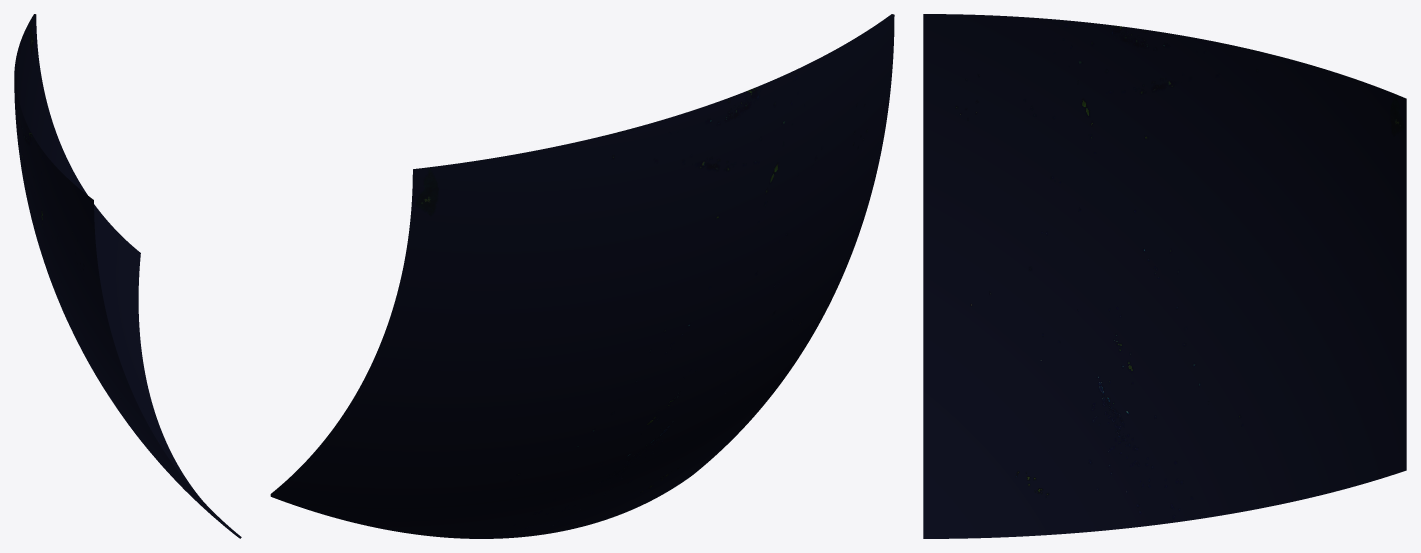
3 views of the same model, side by side, from view 1: azimuth 30°, elevation 25°; view 2: azimuth 150°, elevation 25°; view 3: azimuth 270°, elevation 25° (orthographic). The views are drawn at different scales.
Parts seen in each view (by area): view 1: DefaultName.001, DefaultName.005, DefaultName.007, DefaultName.003; view 2: DefaultName.007, DefaultName.001, DefaultName.005, DefaultName.003; view 3: DefaultName.003, DefaultName.001, DefaultName.005, DefaultName.007.
Boxes of the visible parts, x1=… form: DefaultName.001: x1=19, y1=109, x2=132, y2=393; DefaultName.005: x1=56, y1=150, x2=157, y2=420; DefaultName.007: x1=14, y1=14, x2=63, y2=212; DefaultName.003: x1=66, y1=319, x2=241, y2=538; DefaultName.007: x1=376, y1=111, x2=690, y2=366; DefaultName.001: x1=642, y1=14, x2=894, y2=355; DefaultName.005: x1=270, y1=355, x2=642, y2=538; DefaultName.003: x1=505, y1=278, x2=841, y2=538; DefaultName.003: x1=923, y1=274, x2=1184, y2=538; DefaultName.001: x1=923, y1=14, x2=1184, y2=276; DefaultName.005: x1=1183, y1=276, x2=1406, y2=520; DefaultName.007: x1=1183, y1=36, x2=1406, y2=282.
Size of the model in its own units: 31962 by 45100 by 44873.
Materials: 4 (4 with a texture image).
